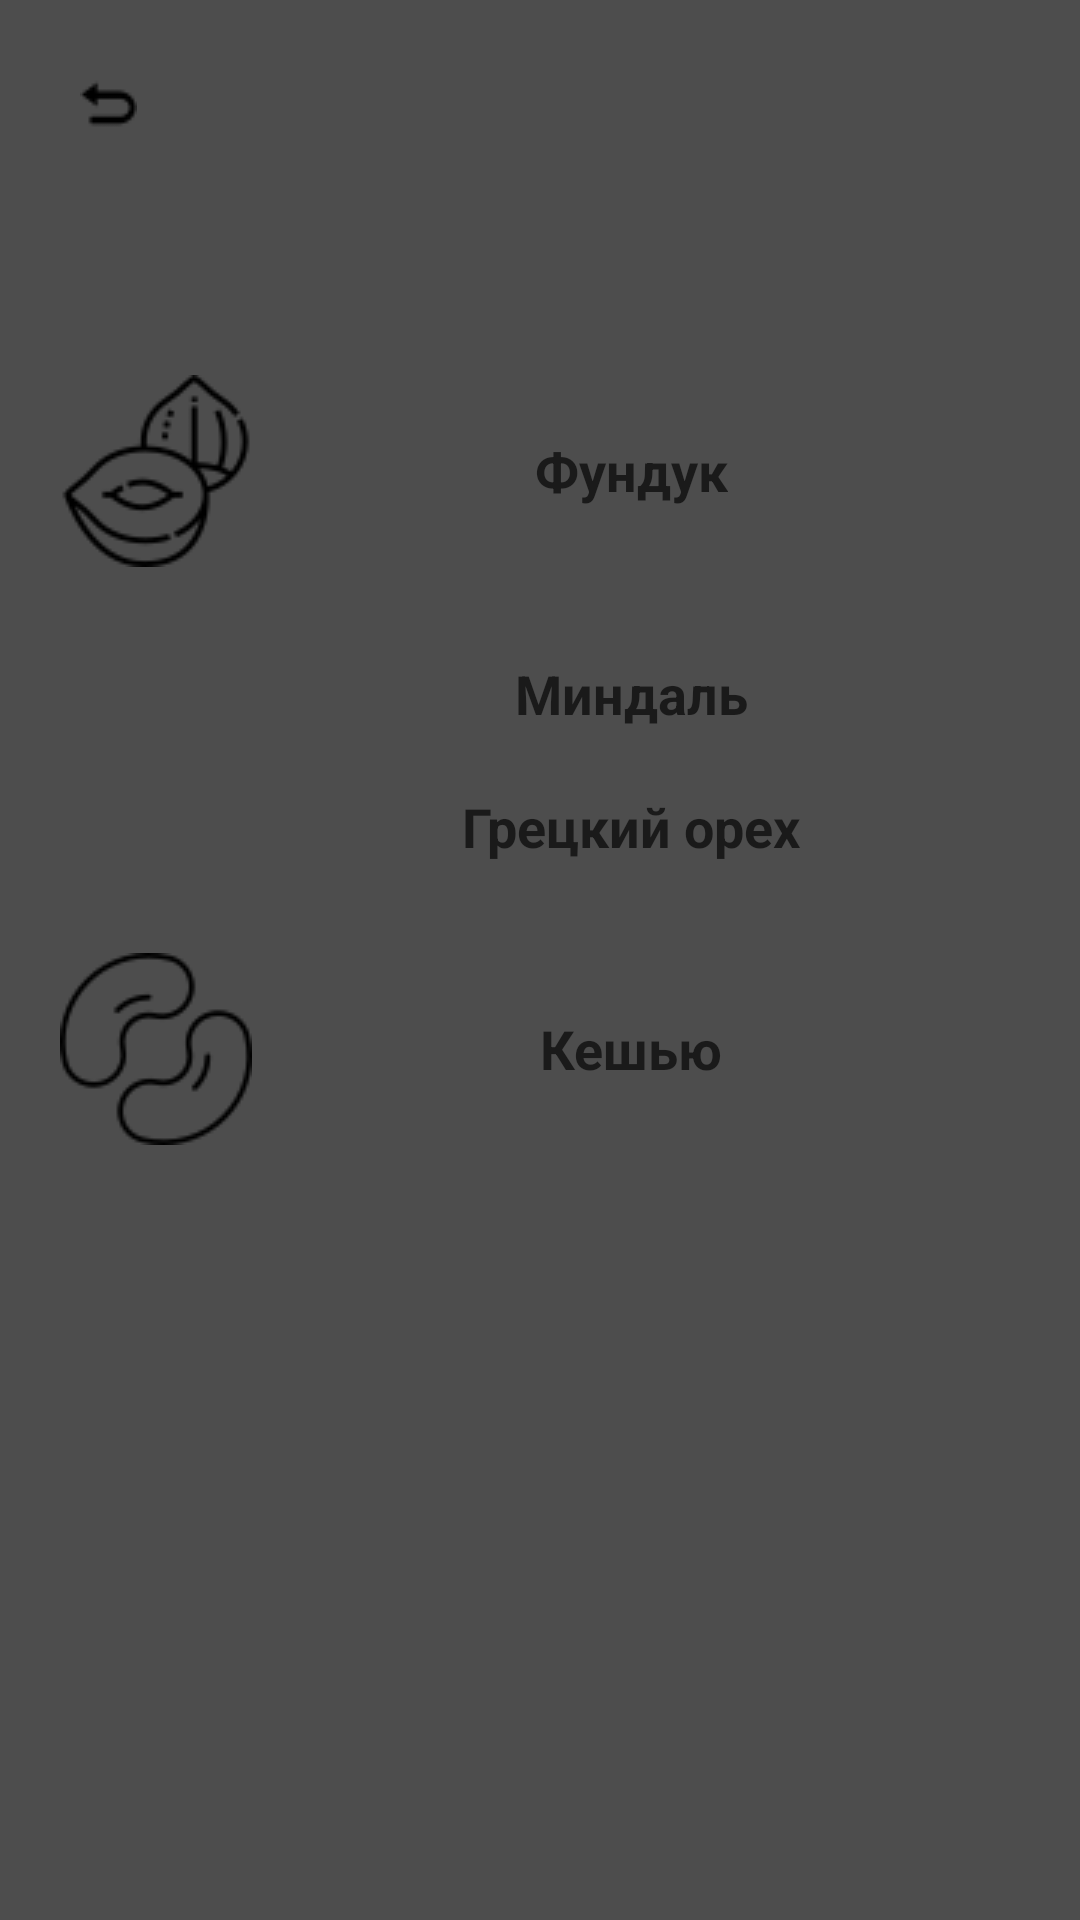

Where to tap for icons on this 1080*1920 app screen, as (x,y):
cashew: (156,1049)
funduk: (156,471)
return: (109,104)
